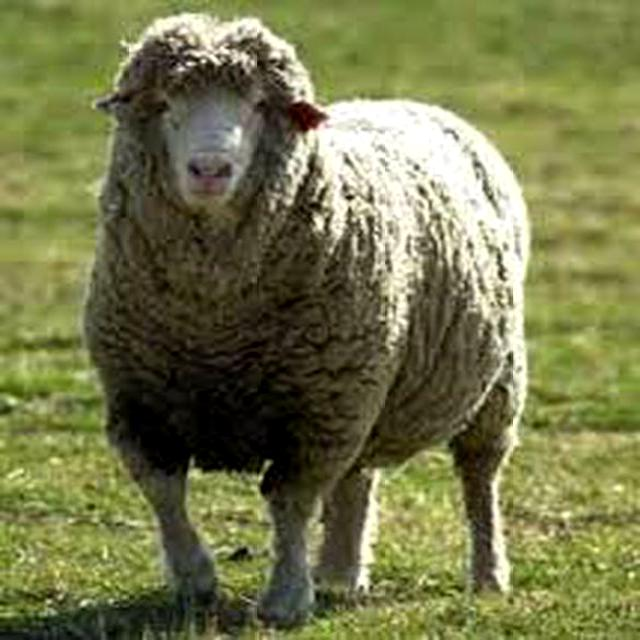sheep: (86, 14, 531, 621)
